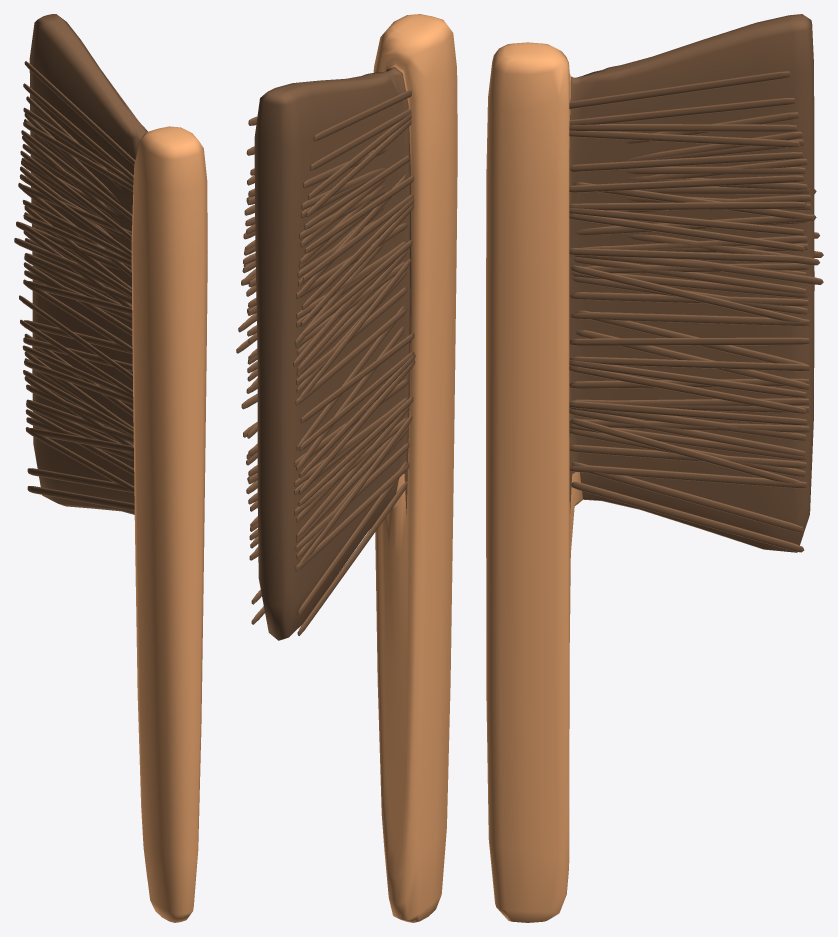
Rendered from Mesh_Bee_Brush_002.fbx.
The picture shows the model from 3 angles, left to right: view 1: azimuth 30°, elevation 25°; view 2: azimuth 150°, elevation 25°; view 3: azimuth 270°, elevation 25°; orthographic projection. The views are drawn at different scales.
Parts seen in each view (by area): view 1: Mesh_Bee_Brush.001; view 2: Mesh_Bee_Brush.001; view 3: Mesh_Bee_Brush.001.
Boxes of the visible parts, x1,y1,x2,y2 form: Mesh_Bee_Brush.001: (14,14,207,922); Mesh_Bee_Brush.001: (236,14,457,922); Mesh_Bee_Brush.001: (486,14,823,922).
Size of the model in its own units: 23.27 by 305 by 103.
